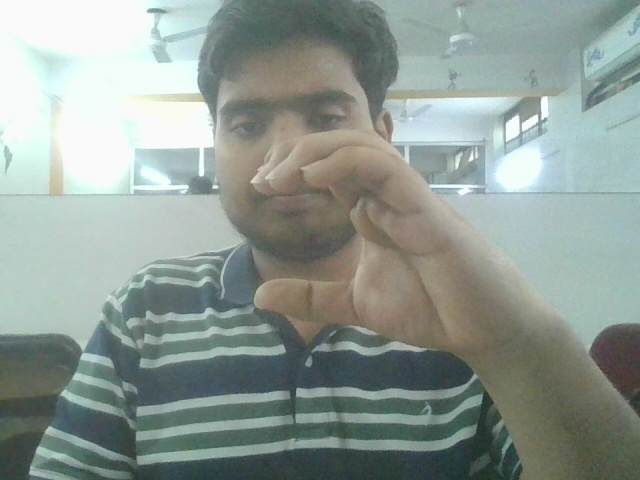No: (235, 122, 578, 368)
